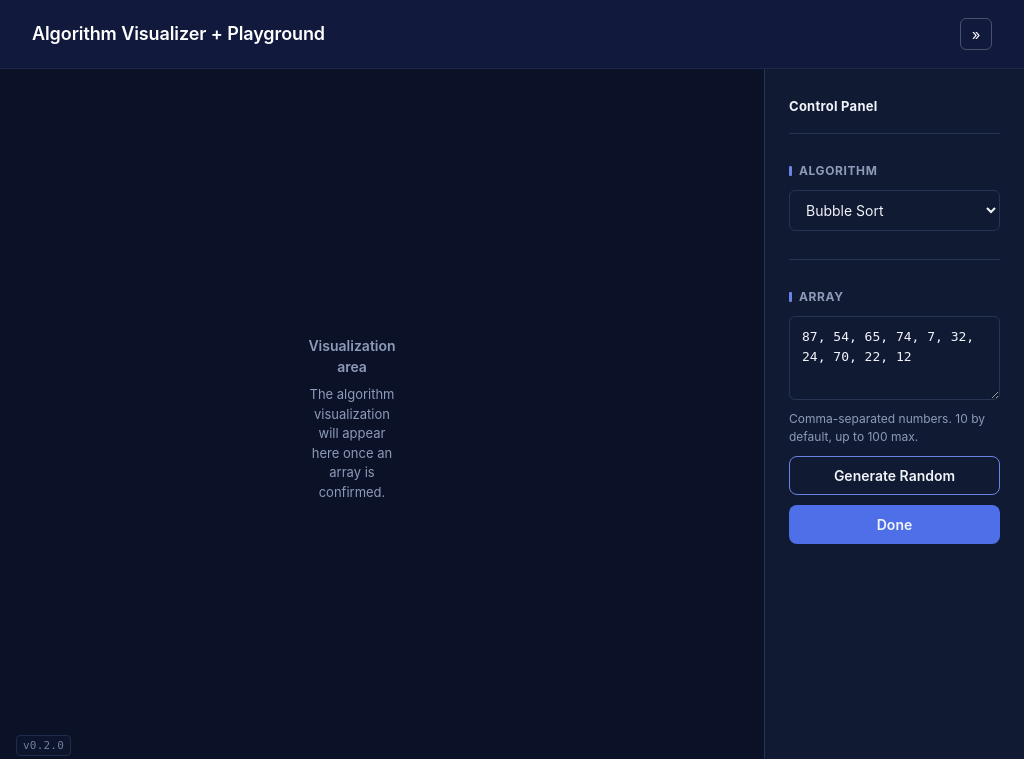
App — Statistics Panel placement › there is still exactly one CodeView alongside exactly one StatisticsPanel
Replace the text in the text box labelled "Array" with "8, 3, 5, 1". click: (894, 358)
box: [789,316,1000,400]
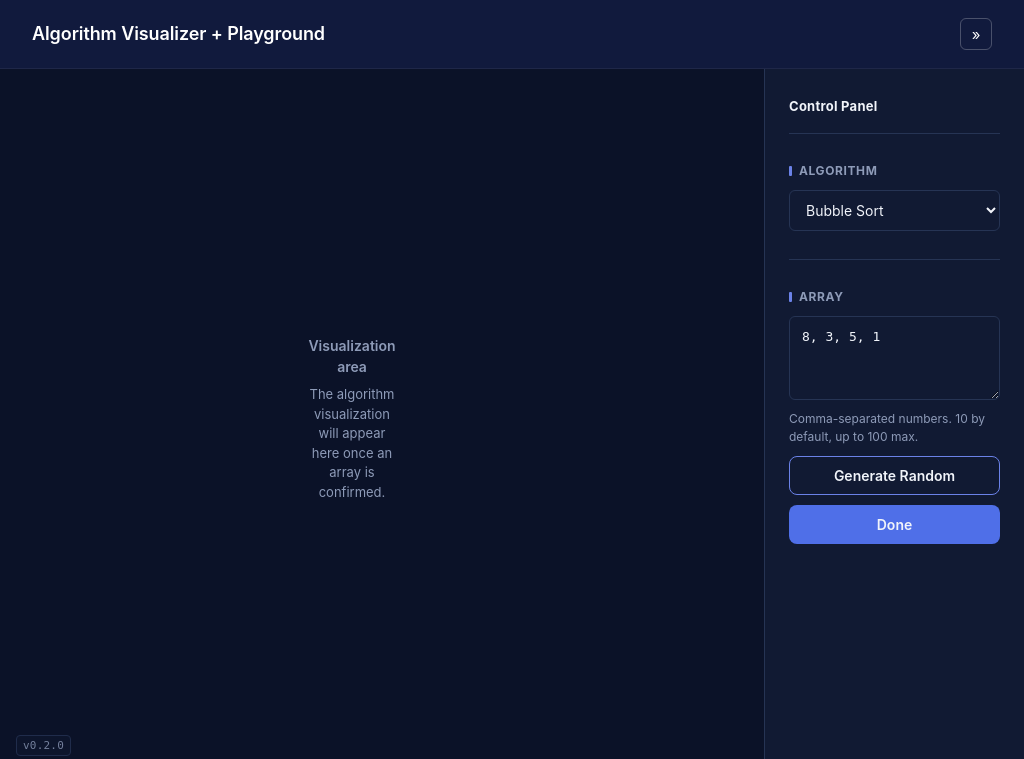
Click the button "Done". click: (894, 524)
box: [789,505,1000,544]
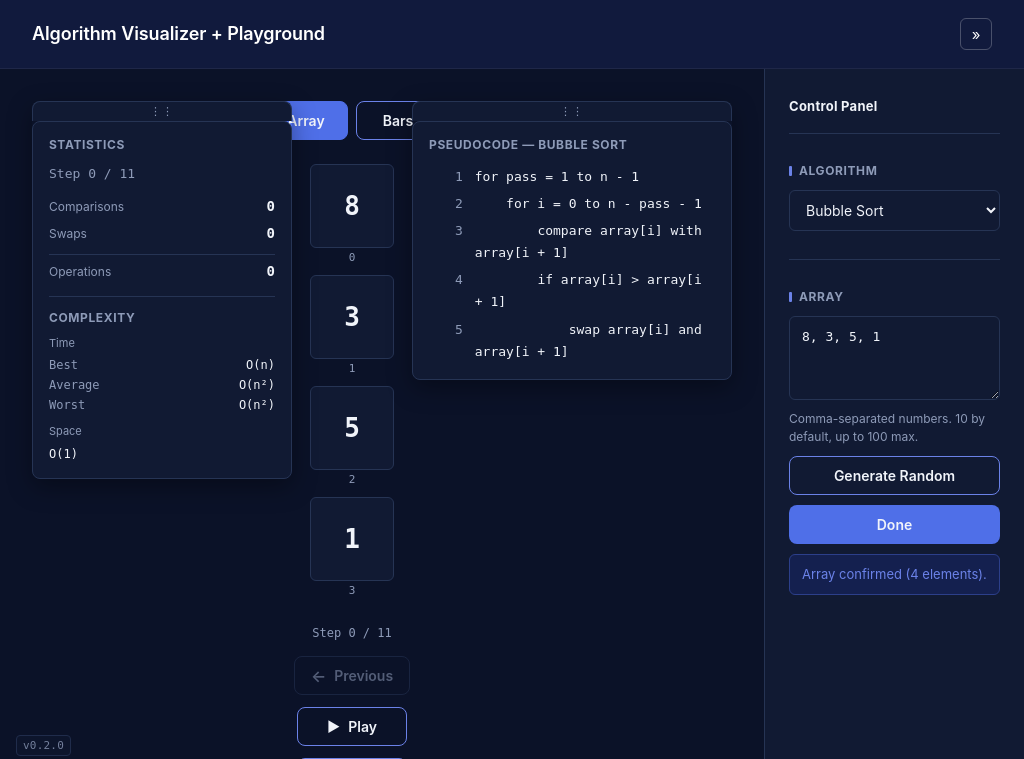
Check: the number of elements with class "statistics-panel" is 1, box [32,121,292,478]
Check: the number of elements with class "code-view" is 1, box [412,121,732,380]
